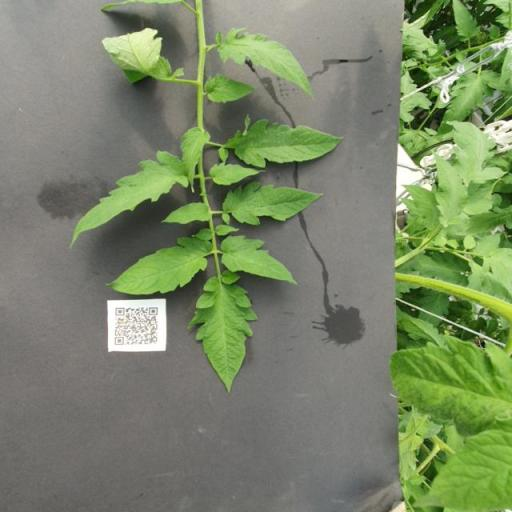Healthy: (70, 150, 188, 248), (188, 270, 259, 388), (215, 24, 313, 97), (218, 112, 344, 168), (108, 236, 214, 296), (222, 182, 326, 226), (220, 236, 298, 286), (209, 162, 266, 186), (160, 202, 210, 224)
